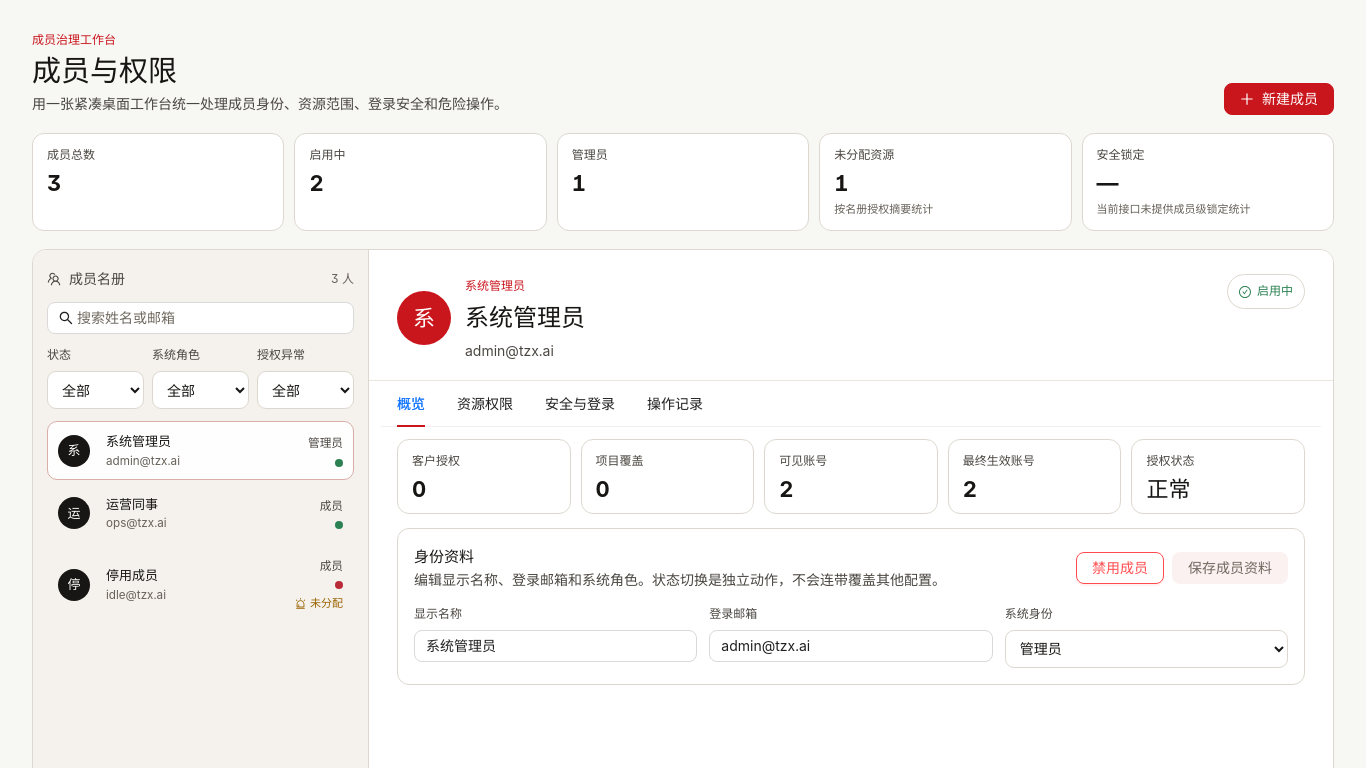
Test: Users › loads detail only for the selected member
Expected: the field showing "系统管理员" is shown, 414,630 -> 697,662
Click the button "运 运营同事 ops@tzx.ai 成员".
click(74, 513)  # box 47,484 -> 354,543
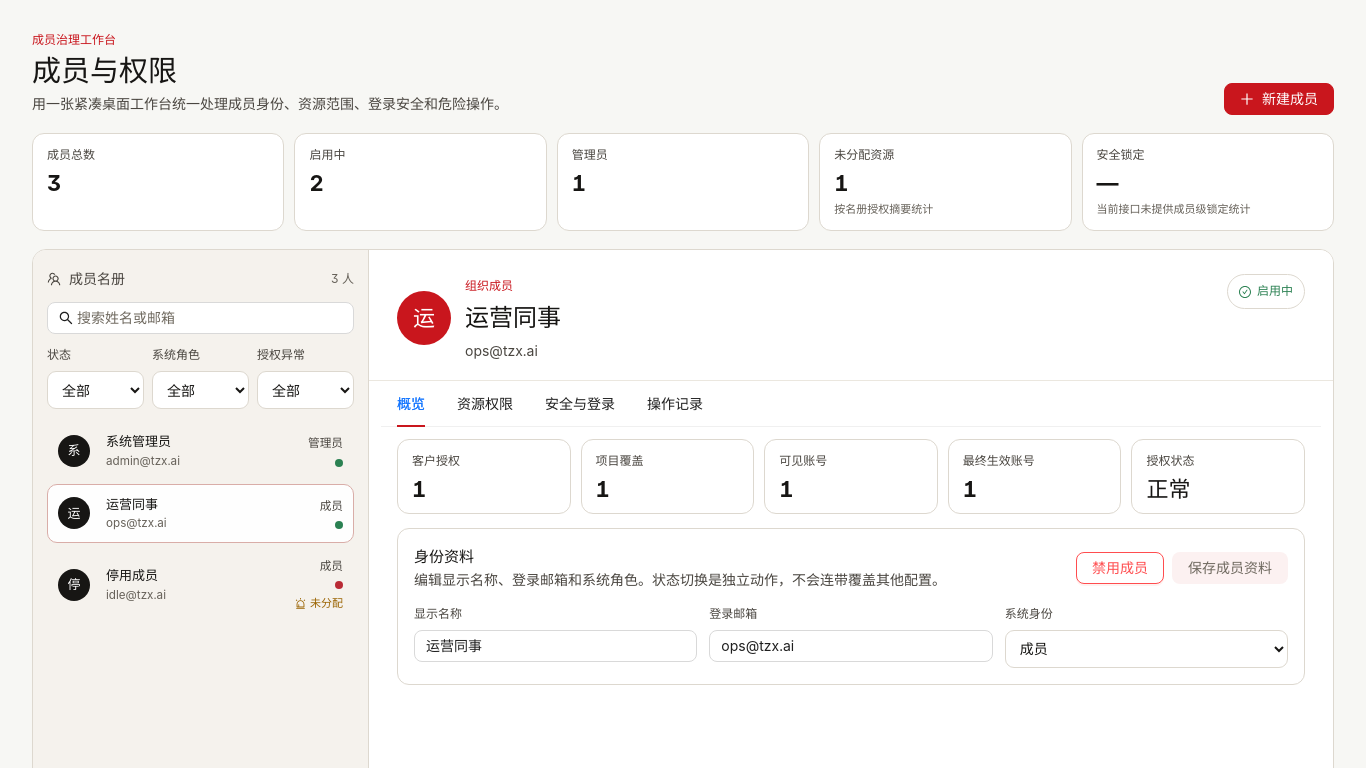
Result: the field showing "运营同事" is shown at 414,630 -> 697,662
